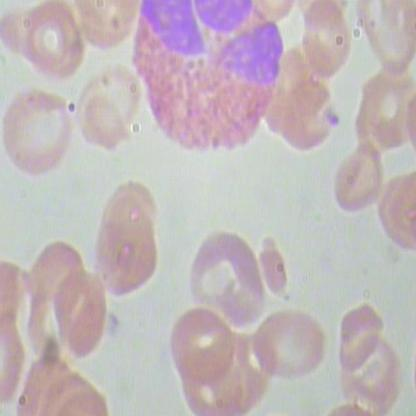RBC: (1, 80, 80, 182), (1, 1, 86, 84), (247, 310, 326, 386), (164, 306, 235, 386), (74, 68, 138, 156), (49, 272, 107, 363), (296, 1, 354, 84), (330, 142, 388, 222), (327, 297, 385, 377)
WBC: (130, 1, 290, 164)
